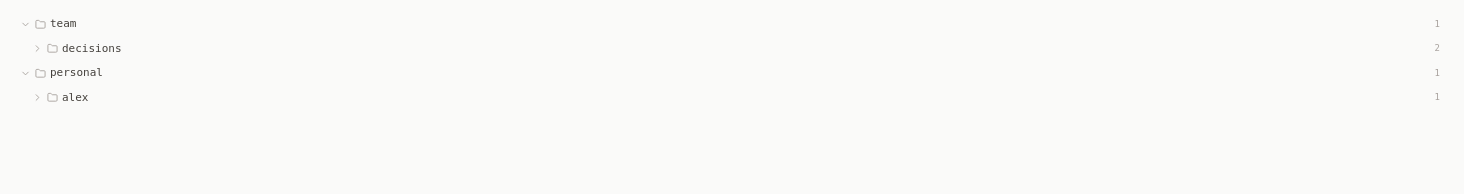
Wave 21 — MemoryTree component › renders a vendor color dot next to thread leaves
# Expand personal/alex/threads/cursor.
Click the button with test id "memory-tree-dir-personal/alex": (38, 98) [12, 86, 1452, 110]
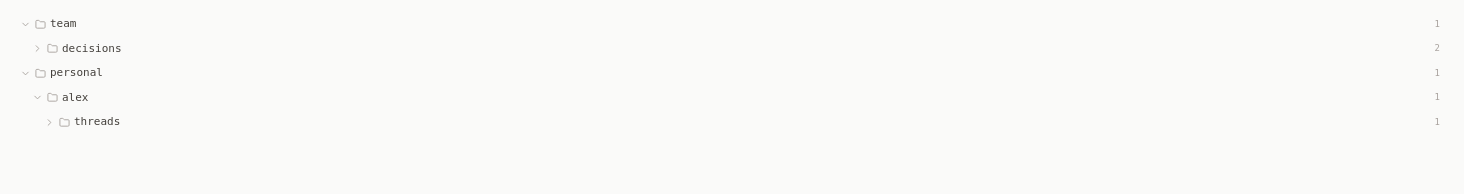
Click the button with test id "memory-tree-dir-personal/alex/threads": (97, 122) [12, 110, 1452, 134]
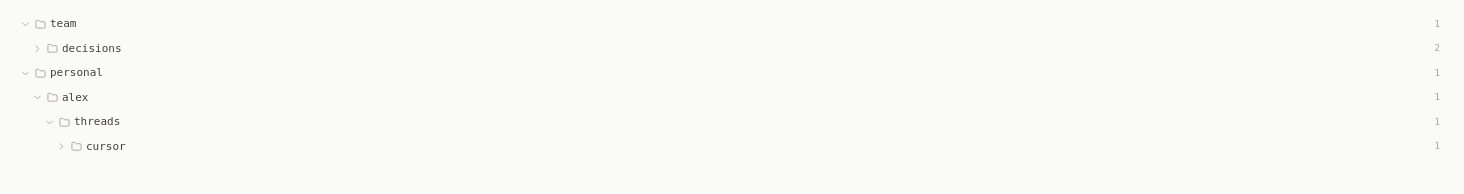
Click the button with test id "memory-tree-dir-personal/alex/threads/cursor": (106, 146) [12, 134, 1452, 159]
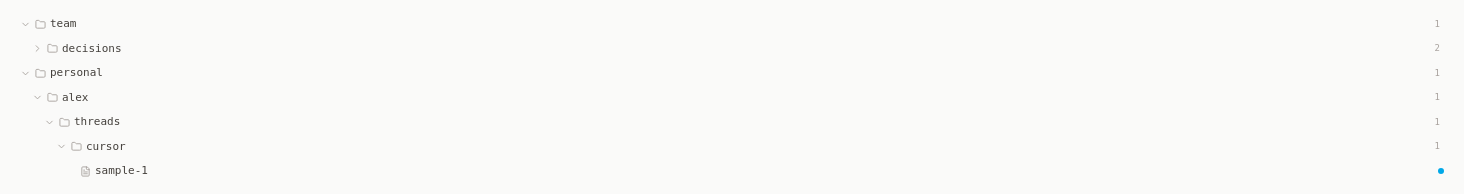
Expected: the element with test id "memory-tree-vendor-dot-personal/alex/threads/cursor/sample-1.md" is shown, [1438, 168, 1444, 174]
